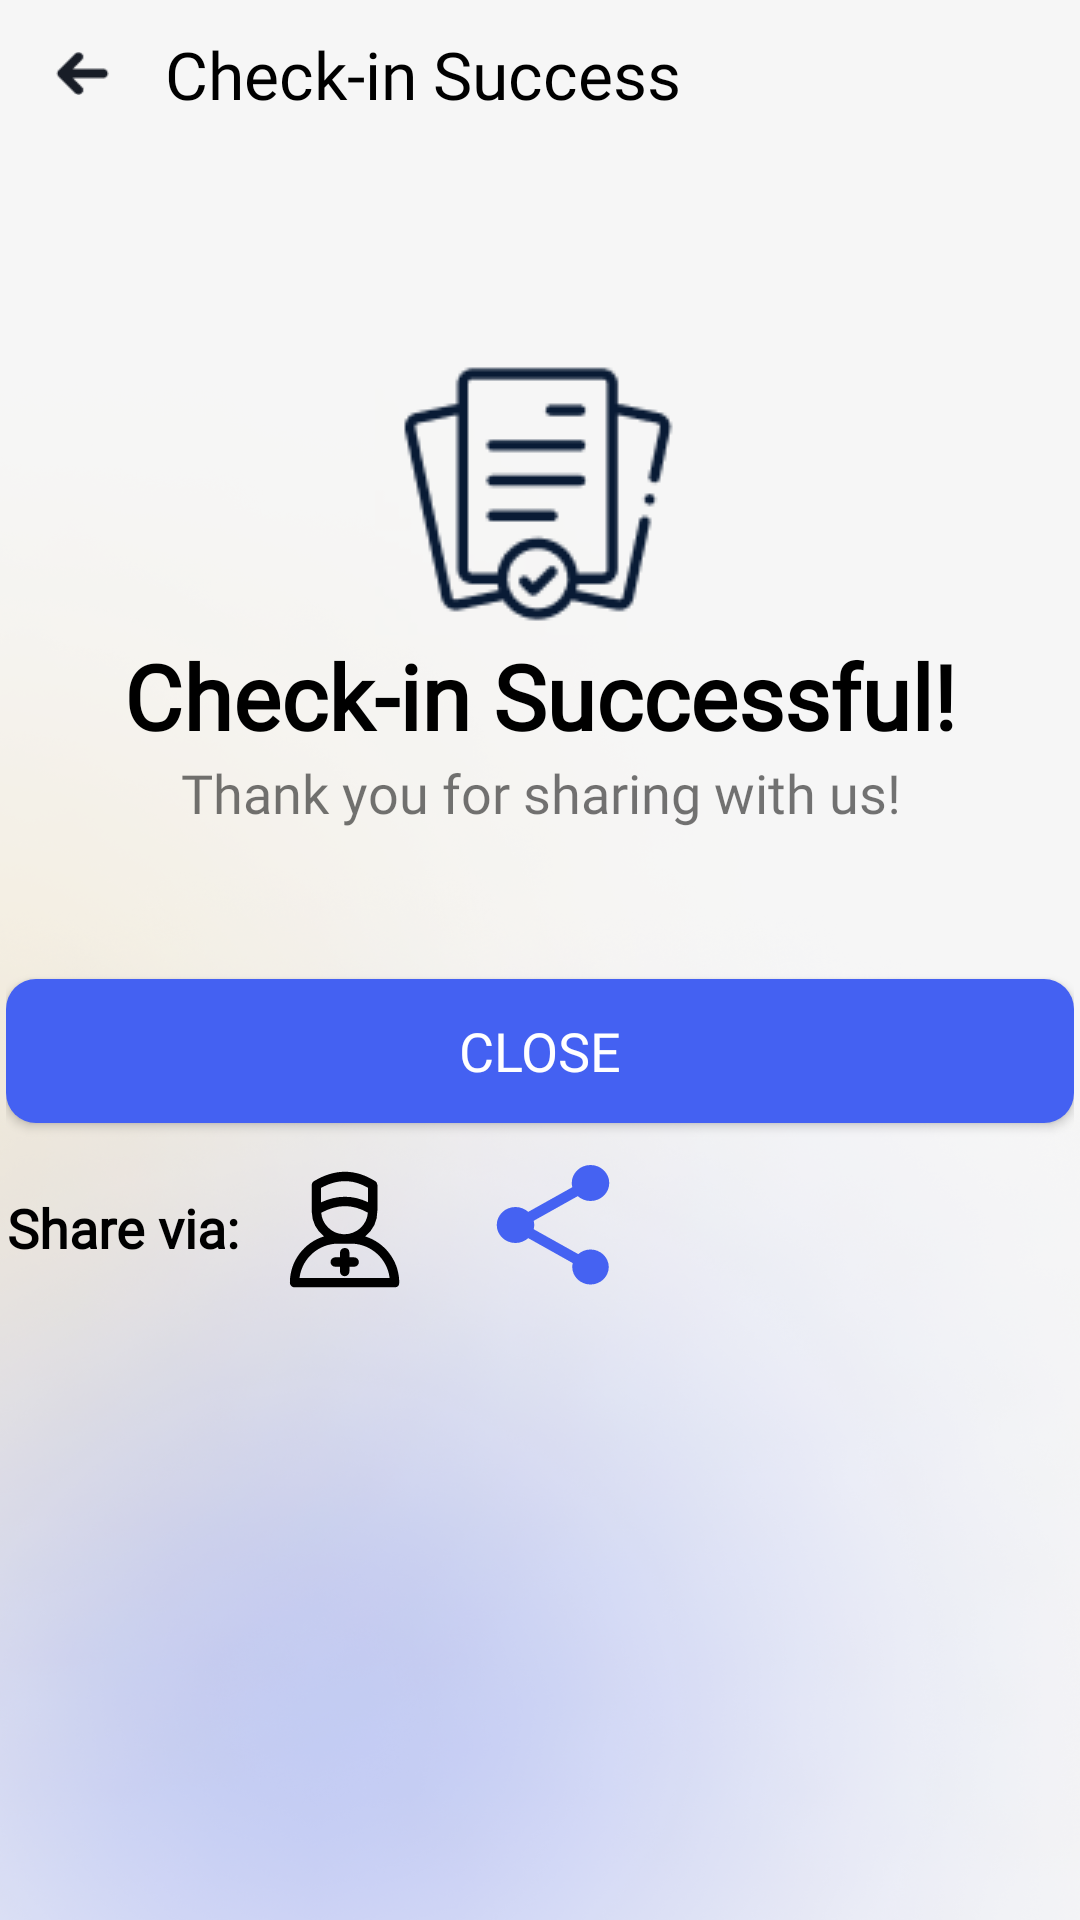

Point at icon controls on the screen. Image size 1080×1920, points as (x=x, y=y).
doctor: (x=344, y=1229)
share: (x=553, y=1225)
